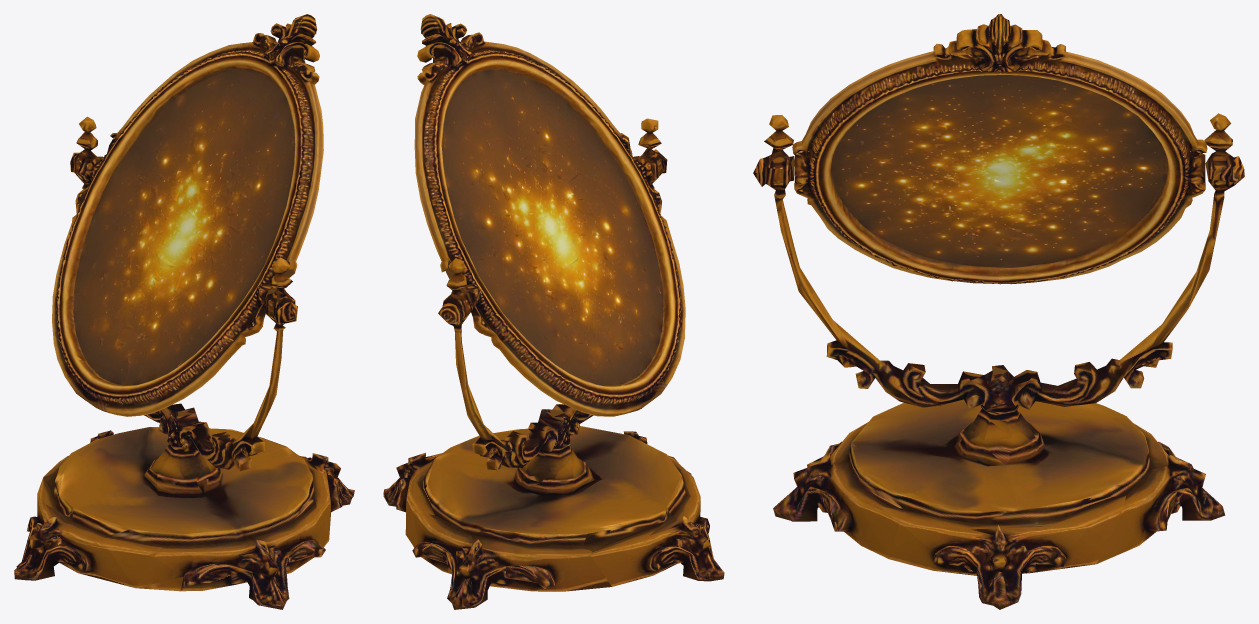
Rendered from mirror_animated.glb.
3 views of the same model, side by side, from view 1: azimuth 30°, elevation 25°; view 2: azimuth 150°, elevation 25°; view 3: azimuth 270°, elevation 25° (orthographic). The views are drawn at different scales.
Visible parts, largest first — view 1: rotation_part, body; view 2: rotation_part, body; view 3: rotation_part, body.
Boxes of the visible parts, x1,y1,x2,y2 form: rotation_part: (52,14,323,416); body: (14,116,354,609); rotation_part: (414,14,685,416); body: (383,118,724,609); rotation_part: (792,14,1207,284); body: (753,113,1244,609).
Size of the model in its own units: 0.2196 by 0.3053 by 0.2398.
Materials: 1 (1 with a texture image).
